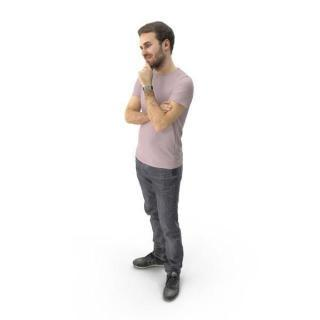person - v3 P: (123, 12, 200, 300)
